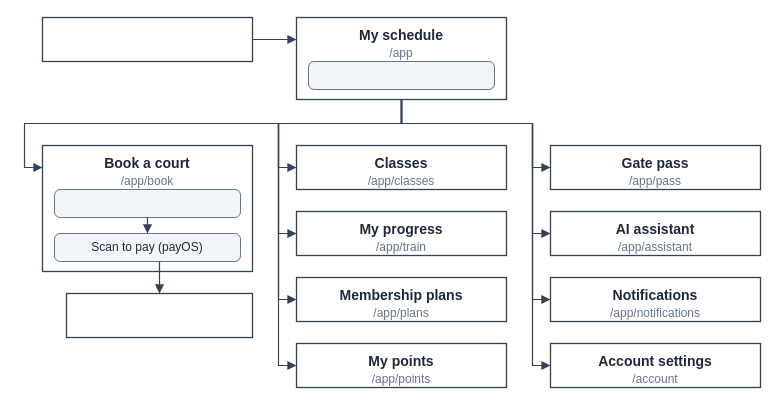
Image size: 779x406. Some labels were removed from this diagram. The shapes that lost their labels are listed below. From the top down, each one's centre as x and y in pixels, then its label:
At point 147,39: "Sign in /login".
At point 401,75: "Claim waitlist seat".
At point 147,203: "Slot hold (5 minutes)".
At point 159,315: "Payment result /pay/return".
